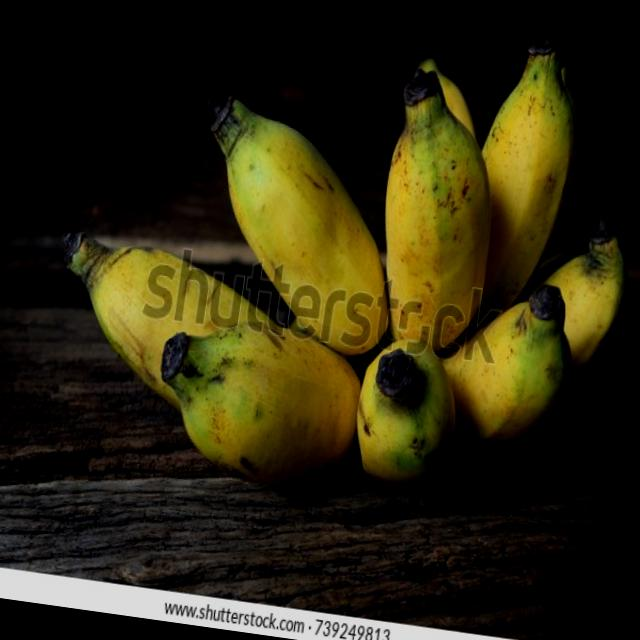Platano: (27, 0, 640, 540)
